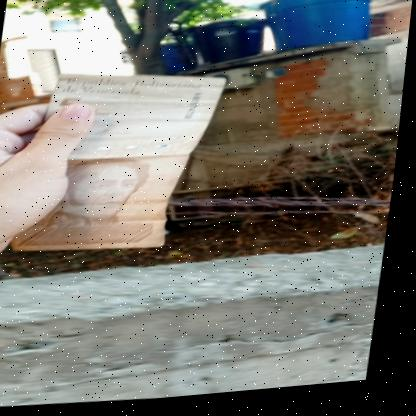five-front-vef: (13, 61, 232, 263)
